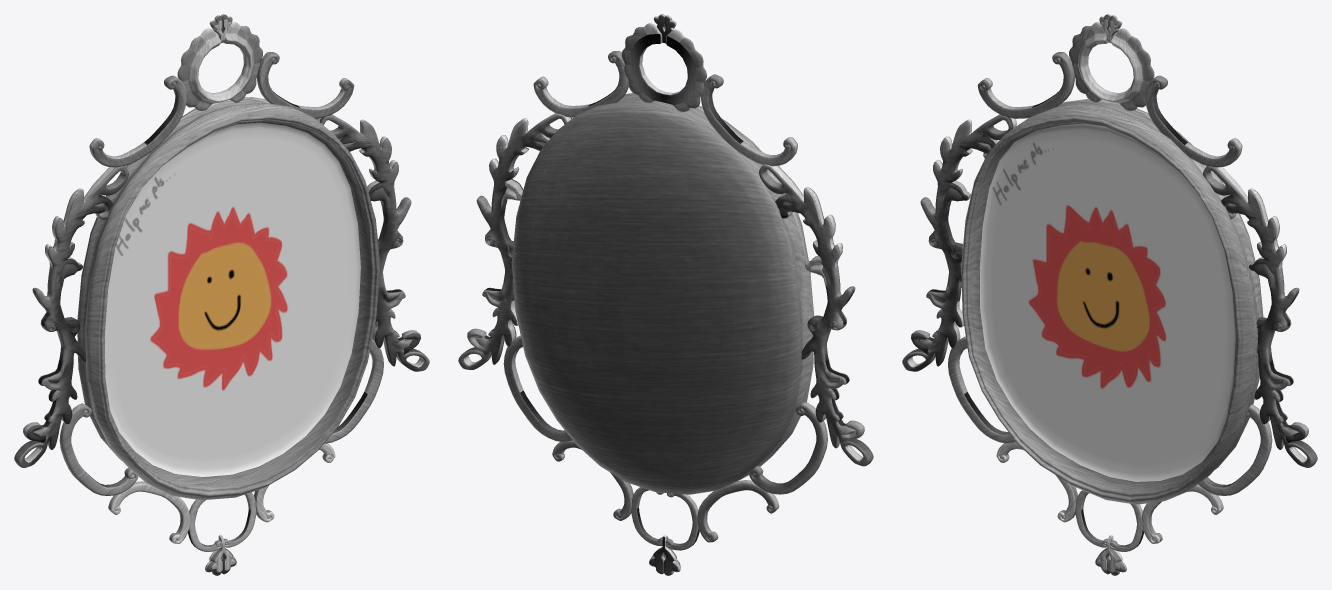
File: no-sun2.glb
3 views of the same model, side by side, from view 1: azimuth 30°, elevation 25°; view 2: azimuth 150°, elevation 25°; view 3: azimuth 330°, elevation 25° (orthographic).
Visible parts, largest first — view 1: Line001; view 2: Line001; view 3: Line001.
Part boxes in pixels (x1,y1,x2,y2): Line001: [14, 14, 429, 575]; Line001: [458, 14, 873, 575]; Line001: [902, 14, 1317, 575].
Size of the model in its own units: 34.13 by 44.38 by 5.09.
2 materials, 1 textured.
